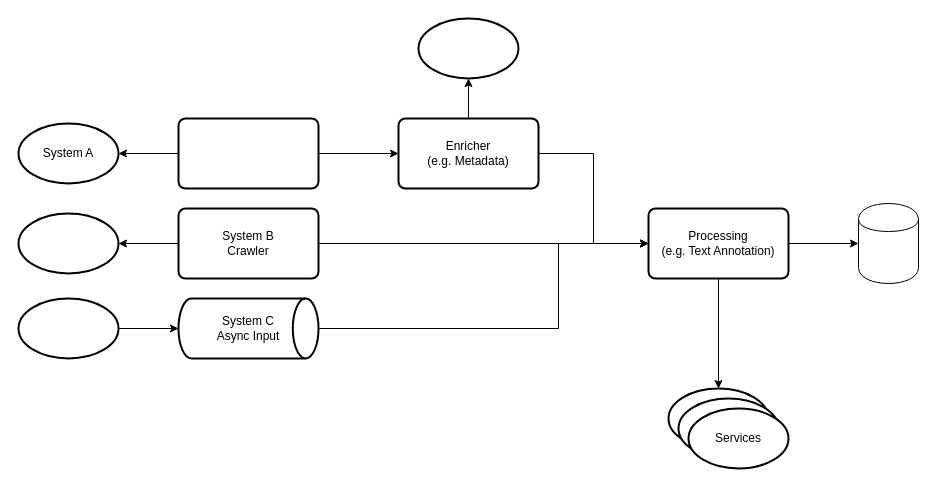
Image size: 936x486. Some labels were removed from this diagram. The shapes that lost their labels are listed below. From the top down, each one's centre as x and y in pixels, then its label:
(468,48): System D
(248,153): System A Crawler
(68,243): System B
(68,328): System C
